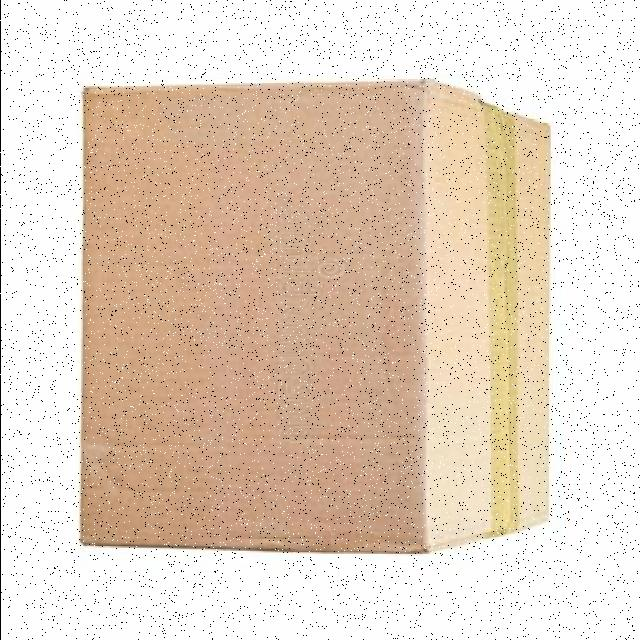normal: (74, 63, 557, 574)
